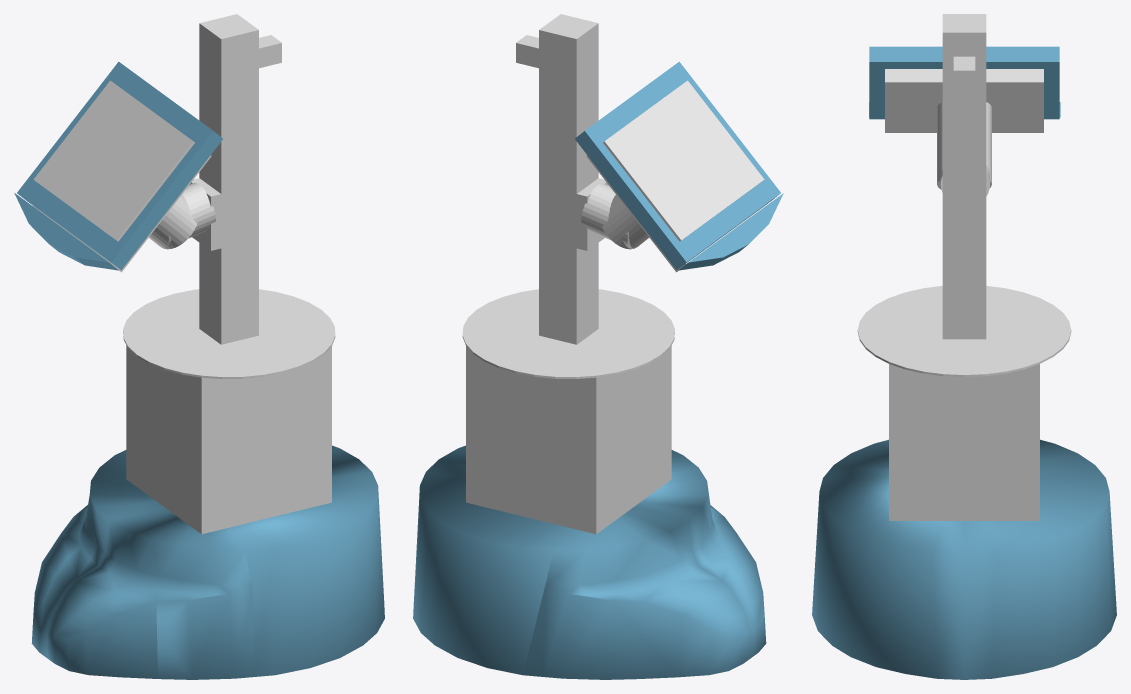
The model's file is cs_scitos_kinect_fixture.dae.
3 renders of one model, left to right at view 1: azimuth 30°, elevation 25°; view 2: azimuth 150°, elevation 25°; view 3: azimuth 270°, elevation 25°, orthographic.
Parts seen in each view (by area): view 1: Chassis, Cube_002, Cube, screen_screen, Cylinder, sc_body1, sc_body2, sc_body4, sc_body5, Cube_001, Cube_010; view 2: Chassis, Cube_002, Cube, screen_screen, Cylinder, sc_body1, sc_body2, sc_body4, sc_body5, Cube_001, Cube_010; view 3: Chassis, Cube_002, Cube, Cylinder, sc_body3, sc_body1, sc_body4, Cube_010.
Boxes of the visible parts, box(x1,y1,x2,y2) form: Chassis: box(31, 445, 384, 679); Cube_002: box(126, 345, 331, 534); Cube: box(199, 14, 258, 344); screen_screen: box(33, 80, 194, 241); Cylinder: box(123, 289, 335, 378); sc_body1: box(17, 61, 222, 270); sc_body2: box(14, 193, 118, 270); sc_body4: box(149, 195, 197, 249); sc_body5: box(165, 183, 215, 248); Cube_001: box(190, 178, 222, 250); Cube_010: box(259, 35, 281, 68); Chassis: box(413, 445, 766, 679); Cube_002: box(466, 345, 671, 534); Cube: box(539, 14, 598, 344); screen_screen: box(603, 80, 764, 241); Cylinder: box(462, 289, 674, 378); sc_body1: box(575, 61, 780, 270); sc_body2: box(678, 193, 783, 270); sc_body4: box(602, 195, 648, 249); sc_body5: box(581, 183, 633, 248); Cube_001: box(575, 178, 608, 250); Cube_010: box(516, 35, 538, 68); Chassis: box(812, 439, 1116, 679); Cube_002: box(889, 364, 1039, 520); Cube: box(942, 14, 986, 339); Cylinder: box(857, 286, 1071, 376); sc_body3: box(885, 69, 1043, 132); sc_body1: box(869, 46, 1059, 119); sc_body4: box(937, 102, 991, 189); Cube_010: box(953, 56, 975, 90).
Size of the model in its own units: 0.6774 by 0.5569 by 1.19.
